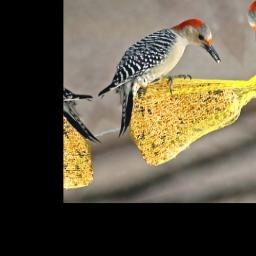Woodpecker: (80, 0, 242, 143)
